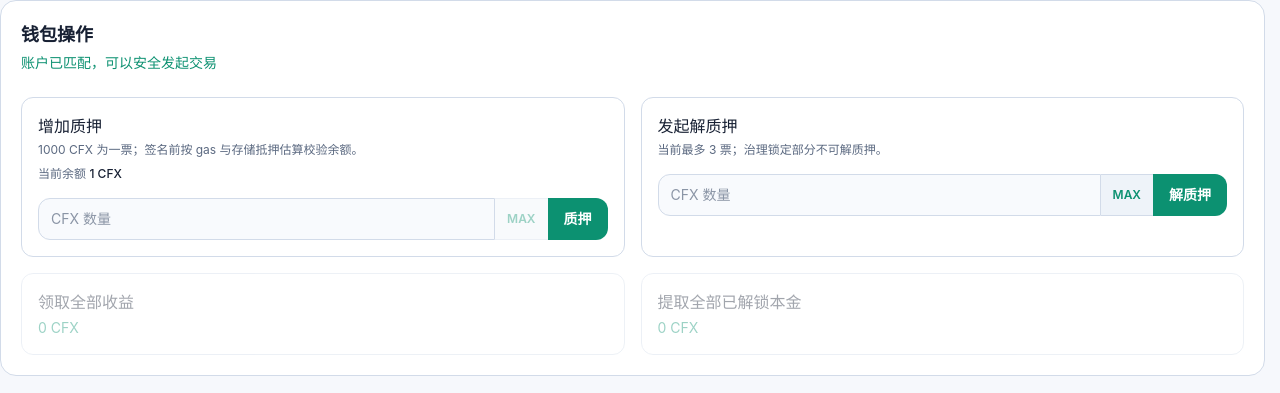
Scenario: PoolActions wallet controls › fills unstake MAX from the governance-adjusted unstakeable votes
Step 1. Click the button with aria-label "解质押 MAX" → (1127, 195), box [1101,174,1153,216]
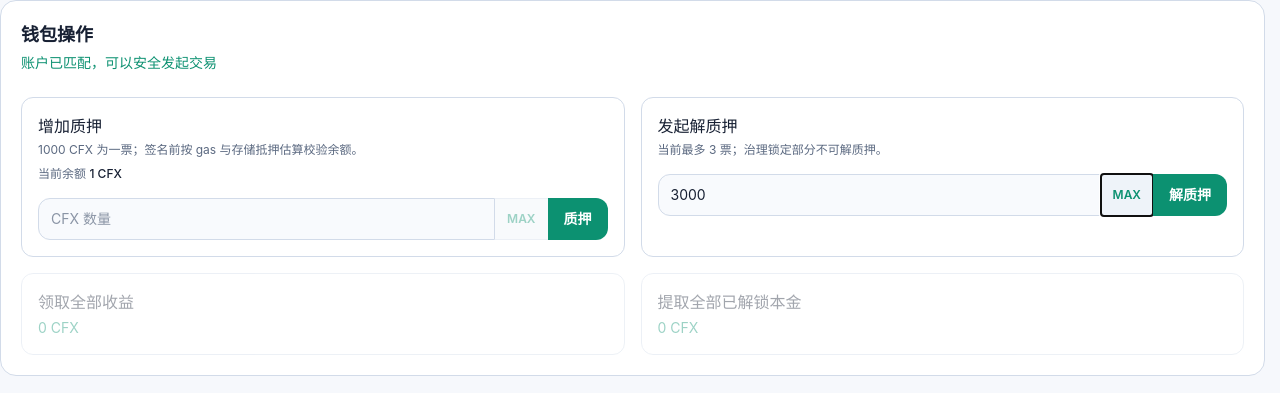
expect the field named "解质押 CFX 数量" holds "3000": met, box [658,174,1101,216]
